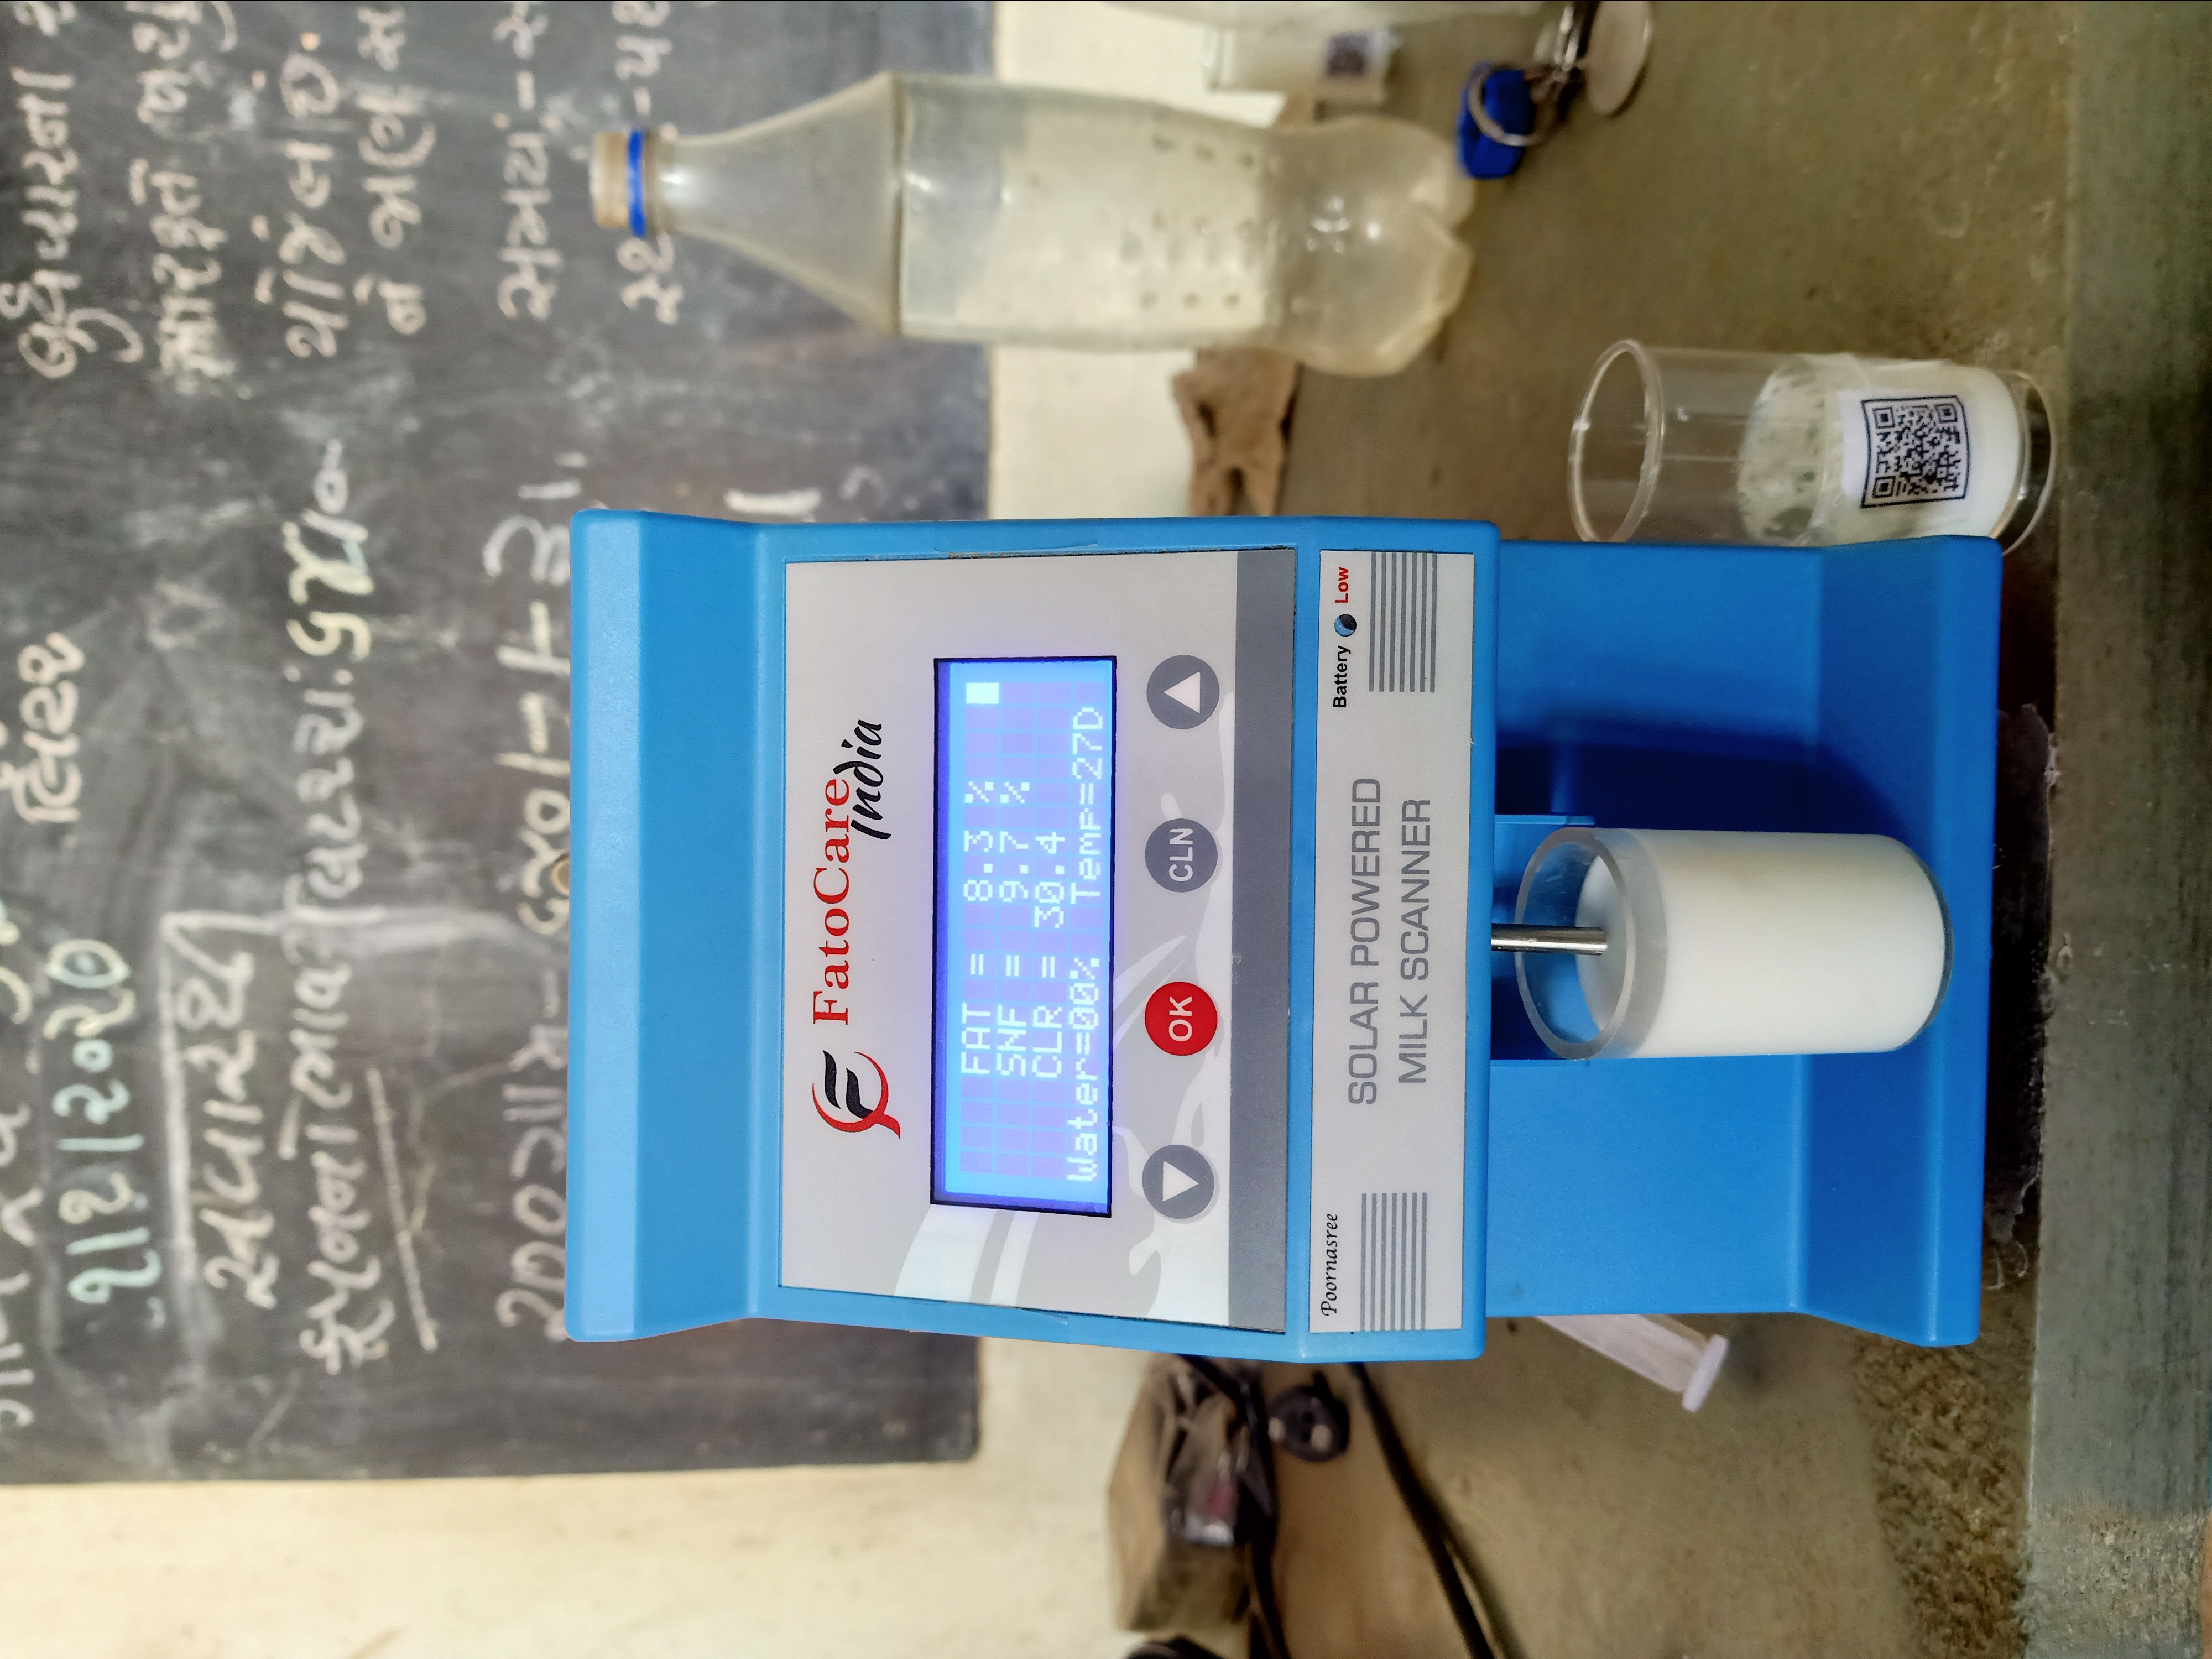lcd: (916, 627, 1137, 1244)
qr: (1846, 364, 1989, 518)
